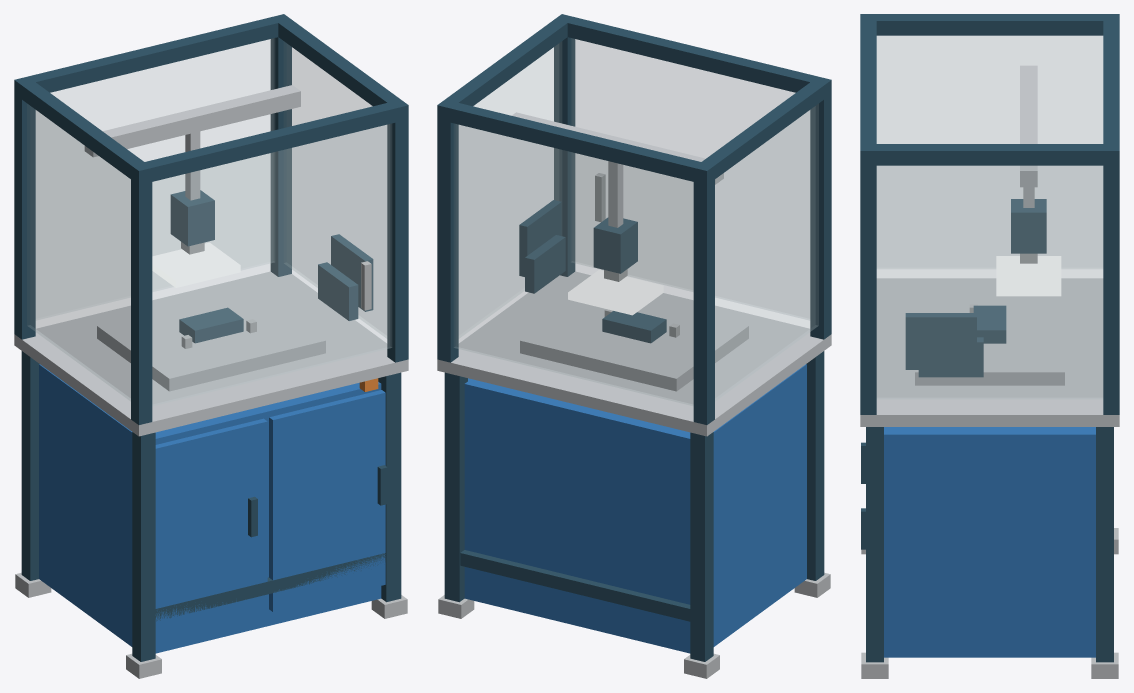
The model's file is inspect.glb.
3 views of the same model, side by side, from view 1: azimuth 30°, elevation 25°; view 2: azimuth 150°, elevation 25°; view 3: azimuth 270°, elevation 25° (orthographic). The views are drawn at different scales.
Visible parts, largest first — view 1: front guard, cabinet door (×2), side guard (×2), rear guard, lower control cabinet, working surface, cell extrusion (×4), steel support (×3), fixture plate, top cross extrusion (×2), top side extrusion (×2), camera bridge (+8 smaller); view 2: lower control cabinet, rear guard, front guard, side guard (×2), cell extrusion (×4), working surface, steel support (×3), top cross extrusion (×2), fixture plate, top side extrusion (×2), base cross rail, inspection light (+7 smaller); view 3: side guard (×2), lower control cabinet, working surface, top side extrusion (×2), cell extrusion (×2), steel support (×2), fixture plate, top cross extrusion (×2), operator panel, inspection light, inspection device, camera bridge (+3 smaller).
Part boxes in pixels (left/top/right/bottom): front guard: left=152, top=124, right=391, bottom=405; cabinet door (×2): left=155, top=390, right=385, bottom=640; side guard (×2): left=27, top=42, right=386, bottom=400; rear guard: left=36, top=38, right=274, bottom=319; lower control cabinet: left=39, top=364, right=381, bottom=653; working surface: left=14, top=271, right=408, bottom=436; cell extrusion (×4): left=14, top=14, right=408, bottom=424; steel support (×3): left=21, top=351, right=401, bottom=661; fixture plate: left=97, top=288, right=325, bottom=391; top cross extrusion (×2): left=14, top=15, right=408, bottom=182; top side extrusion (×2): left=15, top=15, right=408, bottom=182; camera bridge: left=84, top=85, right=300, bottom=157; lower control cabinet: left=464, top=364, right=806, bottom=653; rear guard: left=454, top=124, right=693, bottom=405; front guard: left=571, top=38, right=809, bottom=319; side guard (×2): left=459, top=42, right=818, bottom=400; cell extrusion (×4): left=437, top=14, right=831, bottom=424; working surface: left=437, top=271, right=831, bottom=436; steel support (×3): left=444, top=351, right=824, bottom=661; top cross extrusion (×2): left=438, top=15, right=831, bottom=181; fixture plate: left=520, top=301, right=748, bottom=391; top side extrusion (×2): left=437, top=14, right=831, bottom=183; base cross rail: left=460, top=550, right=690, bottom=621; inspection light: left=568, top=270, right=663, bottom=315; side guard (×2): left=877, top=36, right=1102, bottom=398; lower control cabinet: left=884, top=427, right=1095, bottom=657; working surface: left=860, top=278, right=1119, bottom=426; top side extrusion (×2): left=860, top=14, right=1119, bottom=165; cell extrusion (×2): left=860, top=144, right=1119, bottom=414; steel support (×2): left=866, top=427, right=1113, bottom=662; fixture plate: left=915, top=293, right=1064, bottom=385; top cross extrusion (×2): left=860, top=14, right=1119, bottom=160; operator panel: left=905, top=313, right=976, bottom=369; inspection light: left=996, top=256, right=1061, bottom=296; inspection device: left=1011, top=199, right=1046, bottom=253; camera bridge: left=1020, top=65, right=1037, bottom=187.
Bounding box in the file's own units: 1 × 1.8 × 0.8.
